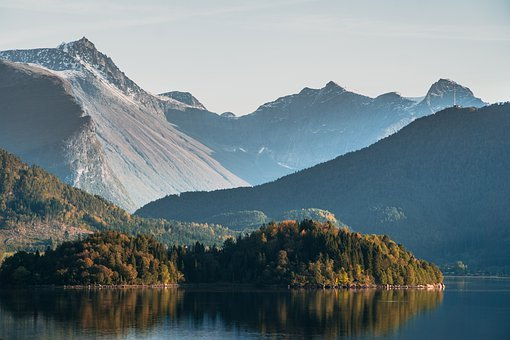lake: (13, 280, 500, 340)
mountain: (20, 58, 510, 288)
